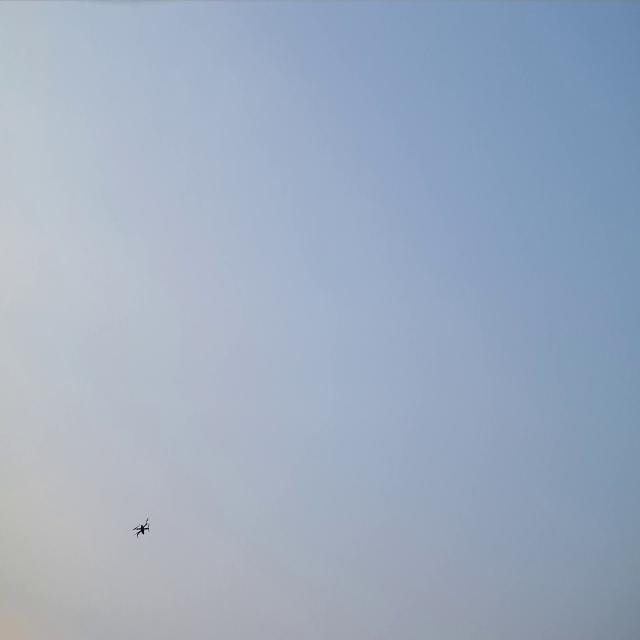UAV: (132, 516, 150, 539)
